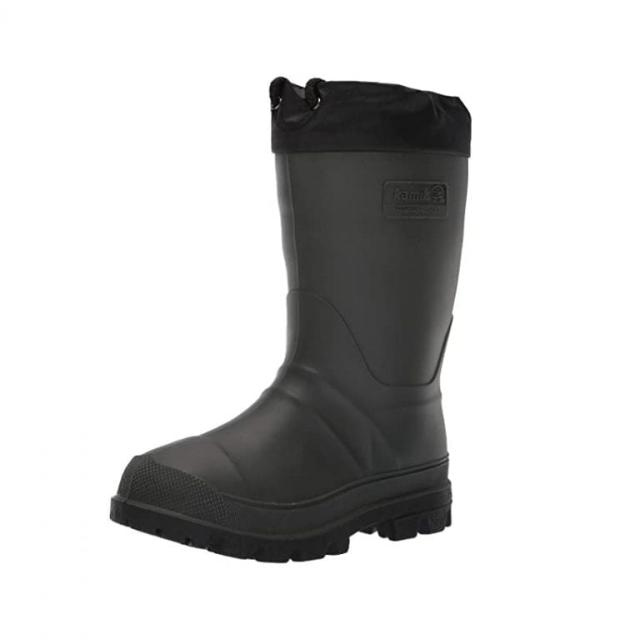boot: (92, 57, 482, 566)
